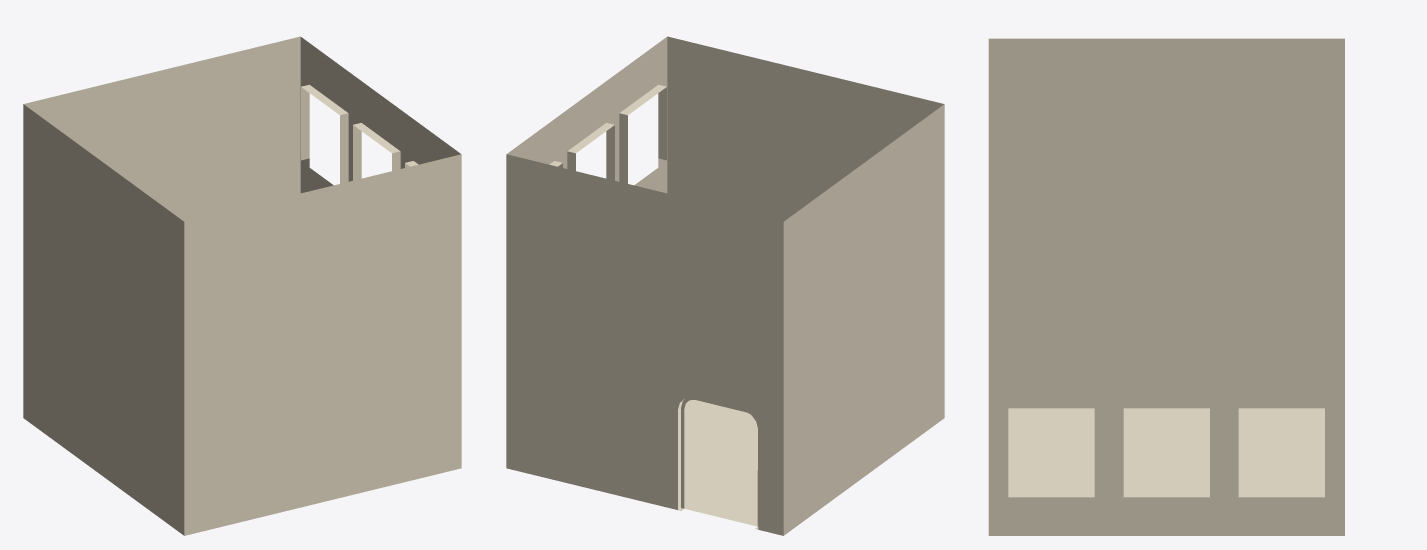
Rendered from Bld_R_low_L2_A.fbx.
The picture shows the model from 3 angles, left to right: view 1: azimuth 30°, elevation 25°; view 2: azimuth 150°, elevation 25°; view 3: azimuth 270°, elevation 25°; orthographic projection. The views are drawn at different scales.
Parts seen in each view (by area): view 1: Bld_R_low_L2_A_LOD0; view 2: Bld_R_low_L2_A_LOD0; view 3: Bld_R_low_L2_A_LOD0.
Part boxes in pixels (bbox=[...]): Bld_R_low_L2_A_LOD0: bbox=[23, 36, 461, 535]; Bld_R_low_L2_A_LOD0: bbox=[506, 36, 944, 535]; Bld_R_low_L2_A_LOD0: bbox=[988, 38, 1344, 535].
Size of what is drawn, in the model's own units: 600 by 670 by 698.
Materials: 1 (1 with a texture image).
